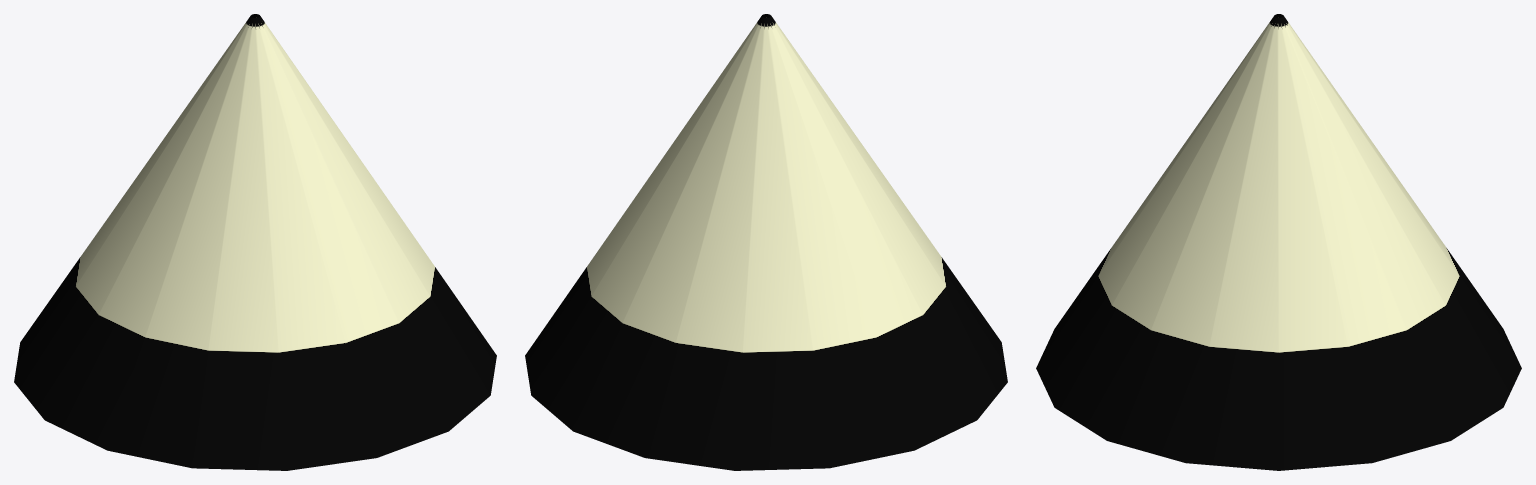
Rendered from ceiling_lamp_mp_1_1_fake_light_1.obj.
3 renders of one model, left to right at view 1: azimuth 30°, elevation 25°; view 2: azimuth 150°, elevation 25°; view 3: azimuth 270°, elevation 25°, orthographic.
Parts seen in each view (by area): view 1: ceiling_lamp_mp_1_1_fake_light_1; view 2: ceiling_lamp_mp_1_1_fake_light_1; view 3: ceiling_lamp_mp_1_1_fake_light_1.
Part boxes in pixels (<box>): ceiling_lamp_mp_1_1_fake_light_1: <box>14,14,496,470</box>; ceiling_lamp_mp_1_1_fake_light_1: <box>525,14,1007,470</box>; ceiling_lamp_mp_1_1_fake_light_1: <box>1036,14,1521,470</box>.
Size of the model in its own units: 3 by 2.4 by 3.
